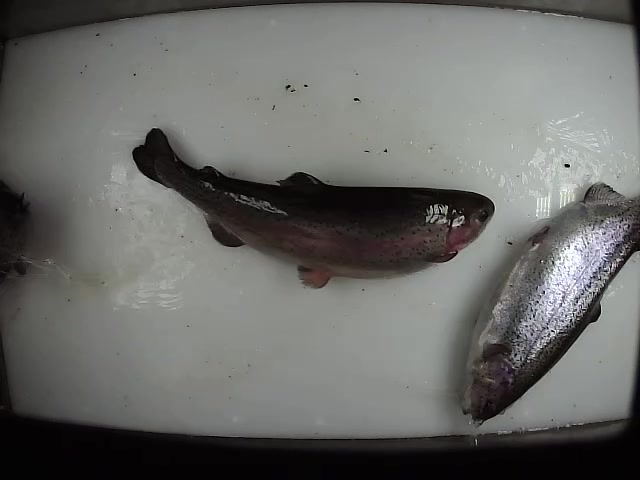fish: (131, 124, 498, 291), (460, 182, 639, 428)
